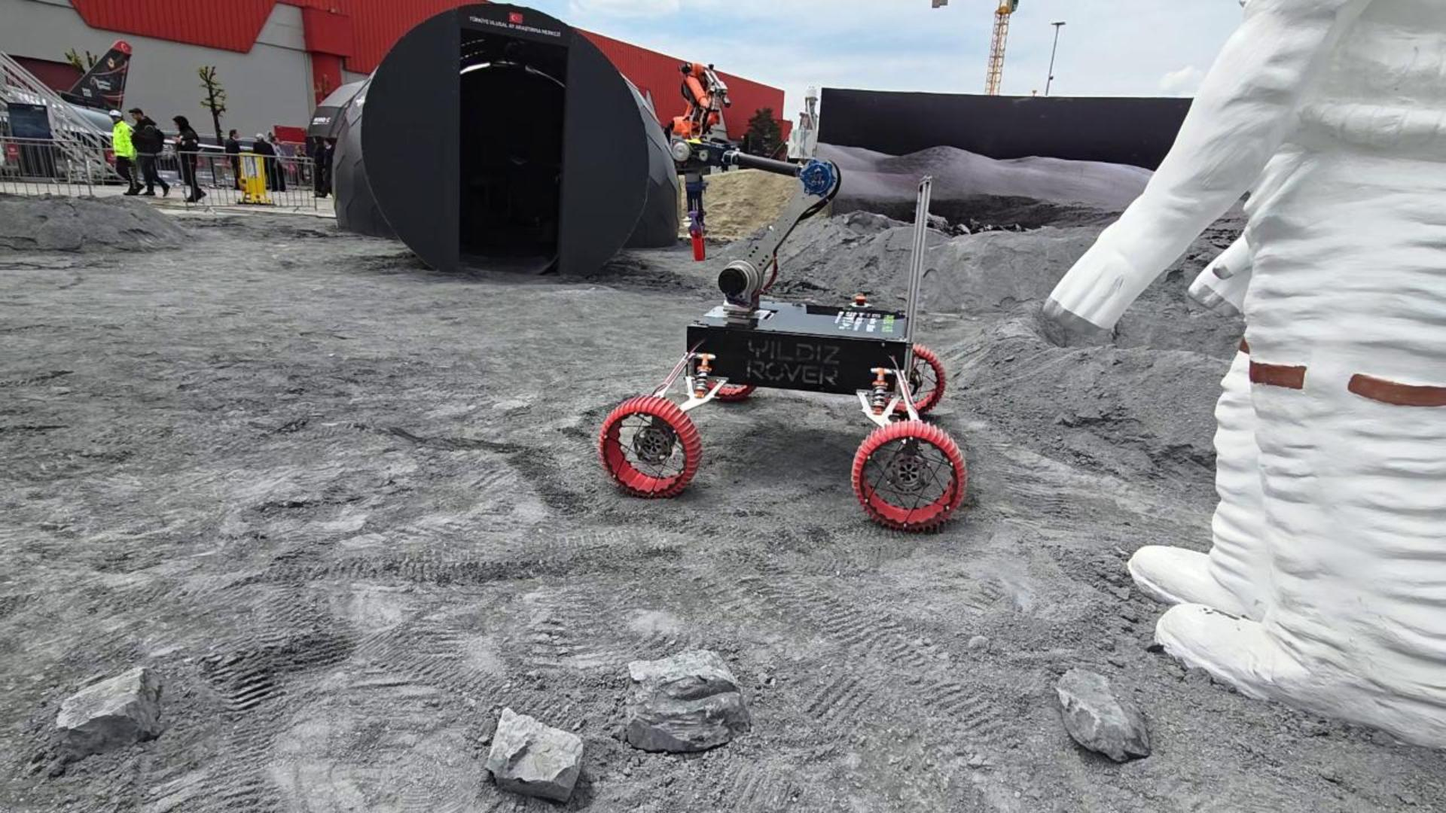rock: (626, 650, 749, 751), (56, 666, 160, 757), (486, 707, 582, 801), (1056, 668, 1149, 761)
